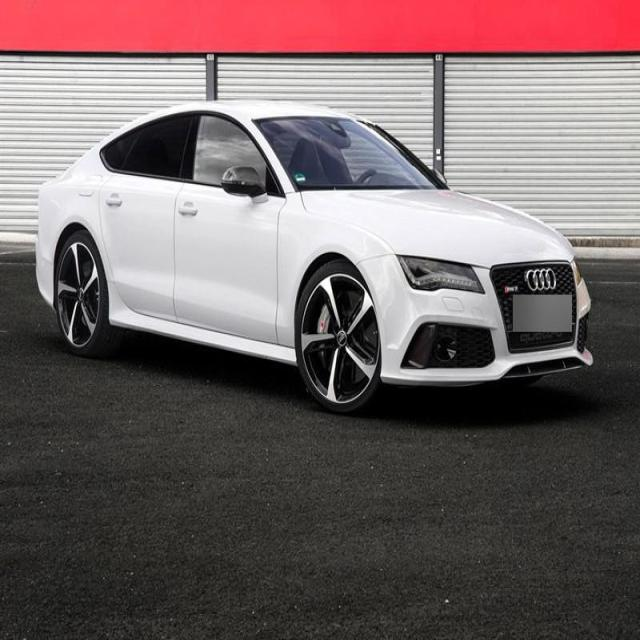door: (94, 114, 198, 334)
front_bumper: (356, 252, 594, 385)
front_glass: (255, 114, 438, 193)
front_right_side_door: (171, 109, 283, 349)
front_right_side_light: (396, 252, 486, 296)
front_right_side_mirror: (221, 162, 267, 205)
wheel: (296, 259, 382, 413), (55, 229, 106, 355)
